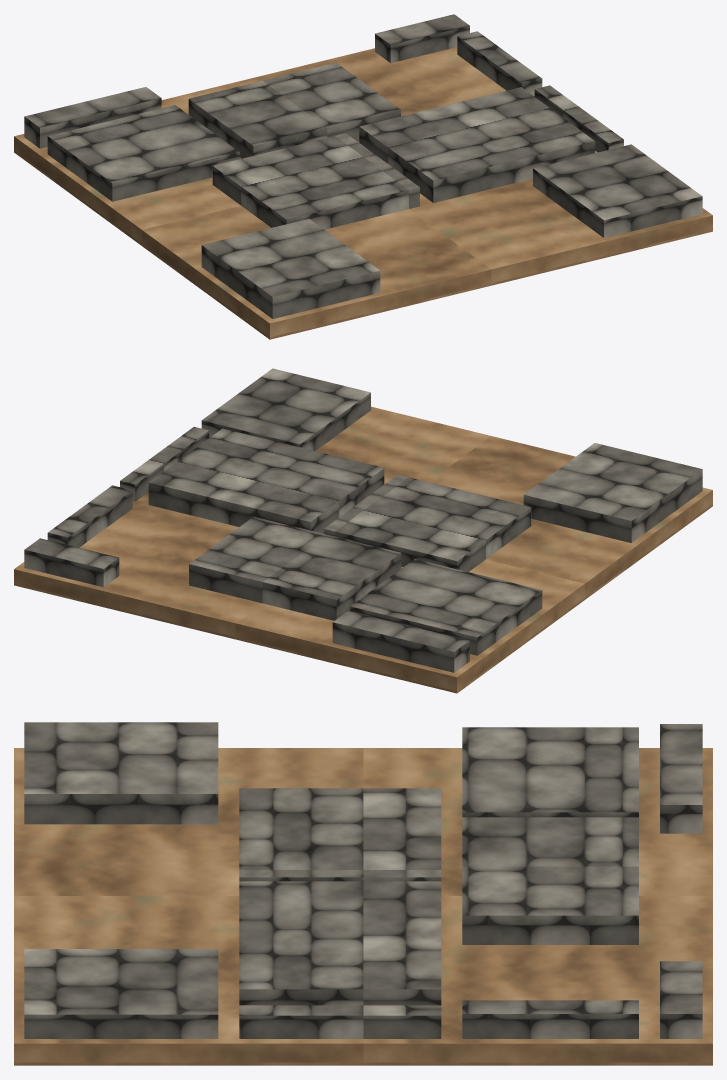
File: RockPath_Irregular_Wide_LOD2.gltf
3 renders of one model, top to bottom at view 1: azimuth 30°, elevation 25°; view 2: azimuth 150°, elevation 25°; view 3: azimuth 270°, elevation 25°, orthographic. The views are drawn at different scales.
Parts seen in each view (by area): view 1: RockPath_Irregular_Wide_LOD2; view 2: RockPath_Irregular_Wide_LOD2; view 3: RockPath_Irregular_Wide_LOD2.
Boxes of the visible parts, x1=… form: RockPath_Irregular_Wide_LOD2: x1=14, y1=14, x2=712, y2=339; RockPath_Irregular_Wide_LOD2: x1=14, y1=368, x2=712, y2=693; RockPath_Irregular_Wide_LOD2: x1=14, y1=722, x2=712, y2=1065.
Size of the model in its own units: 2 by 0.1668 by 2.
Materials: 2 (2 with a texture image).
